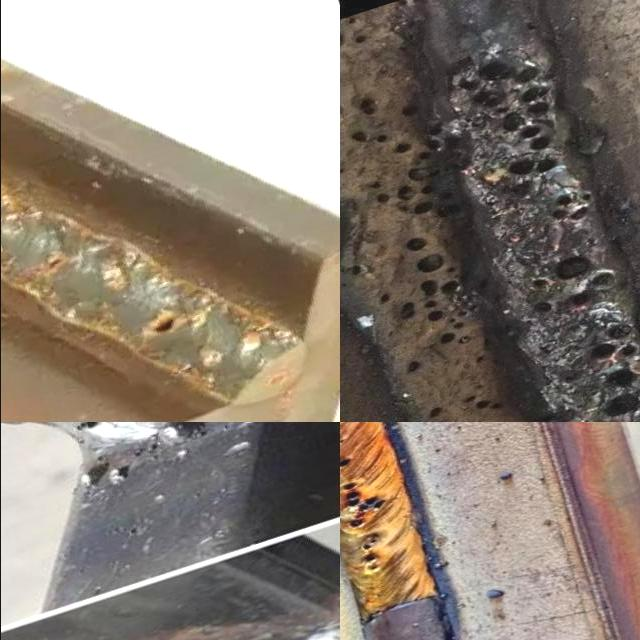defect: (339, 94, 466, 222), (451, 52, 567, 182), (378, 233, 478, 347), (519, 246, 624, 321), (587, 319, 640, 422), (339, 478, 393, 532), (550, 177, 603, 225), (456, 390, 508, 417), (339, 16, 369, 50), (339, 255, 379, 279), (359, 533, 381, 573), (144, 315, 176, 336), (36, 255, 65, 275), (414, 404, 444, 422), (395, 358, 425, 375), (339, 454, 356, 468), (339, 437, 346, 447)
